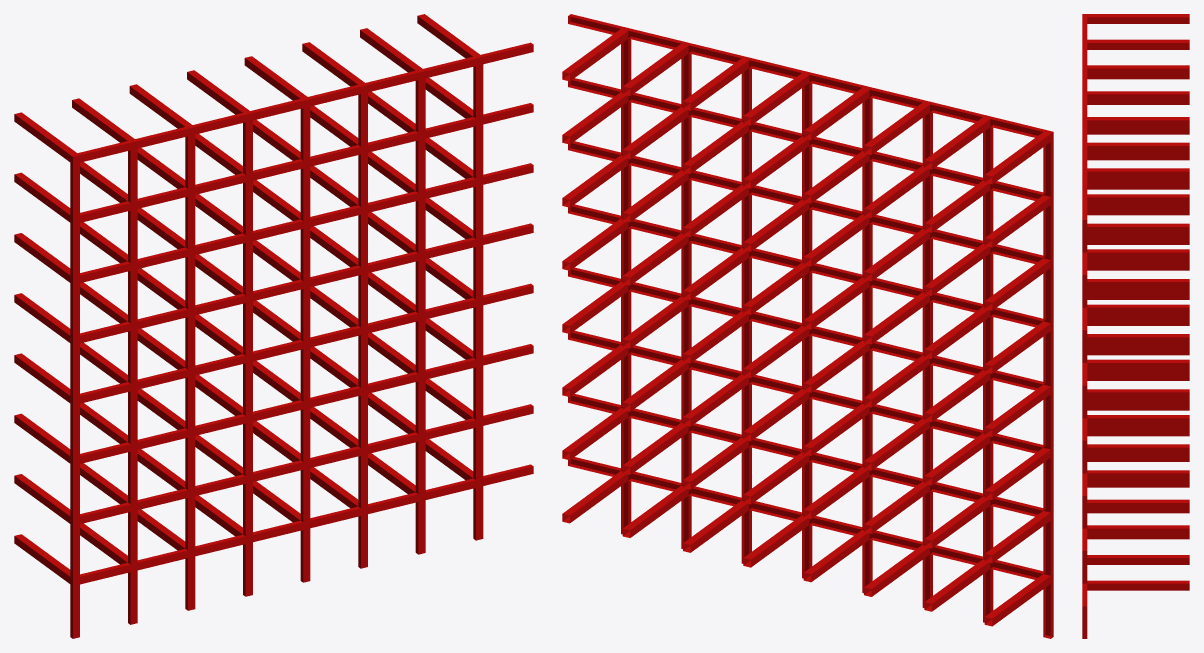
File: GridPlaneDepth.fbx
3 views of the same model, side by side, from view 1: azimuth 30°, elevation 25°; view 2: azimuth 150°, elevation 25°; view 3: azimuth 270°, elevation 25° (orthographic). The views are drawn at different scales.
Parts seen in each view (by area): view 1: GridPlaneDepth; view 2: GridPlaneDepth; view 3: GridPlaneDepth.
Part boxes in pixels (left/top/right/bottom): GridPlaneDepth: left=14, top=14, right=533, bottom=638; GridPlaneDepth: left=562, top=14, right=1053, bottom=638; GridPlaneDepth: left=1082, top=14, right=1189, bottom=638.
Size of the model in its own units: 5000 by 5000 by 1100.
